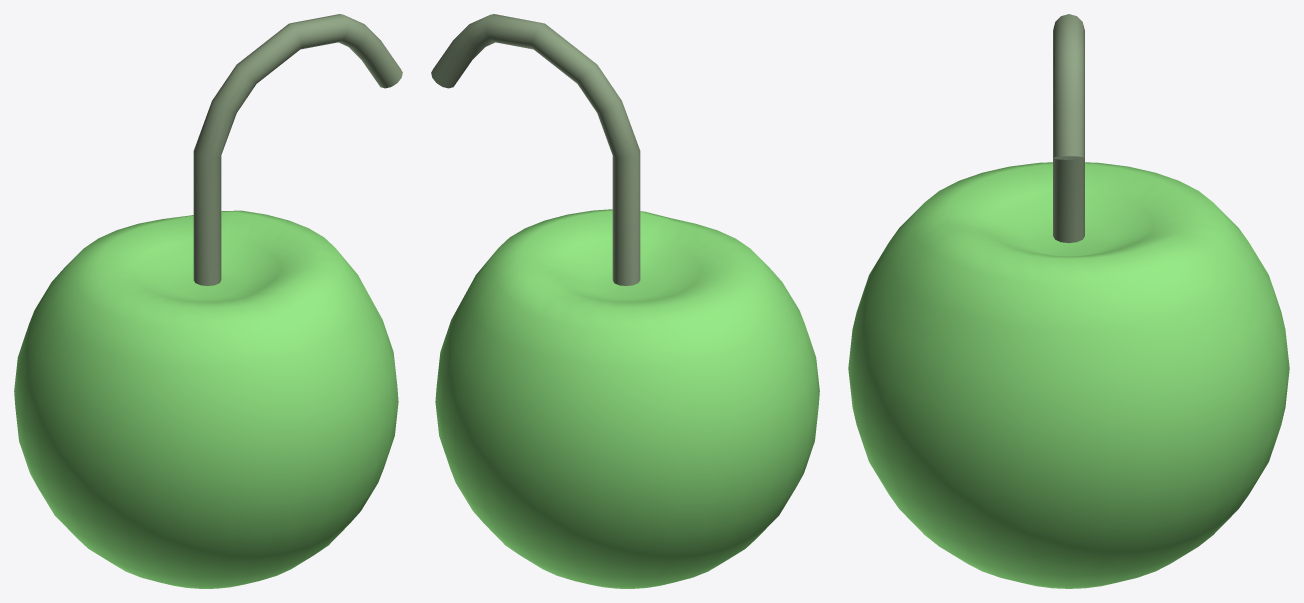
The model's file is Cerise.fbx.
3 renders of one model, left to right at view 1: azimuth 30°, elevation 25°; view 2: azimuth 150°, elevation 25°; view 3: azimuth 270°, elevation 25°, orthographic. The views are drawn at different scales.
Parts seen in each view (by area): view 1: Sphere002, Line001; view 2: Sphere002, Line001; view 3: Sphere002, Line001.
Part boxes in pixels (bbox=[...]): Sphere002: bbox=[14, 210, 398, 588]; Line001: bbox=[193, 14, 402, 285]; Sphere002: bbox=[435, 209, 819, 588]; Line001: bbox=[431, 14, 640, 285]; Sphere002: bbox=[848, 162, 1289, 588]; Line001: bbox=[1053, 14, 1084, 242].
Bounding box in the file's own units: 1.7 × 2.36 × 1.57.
